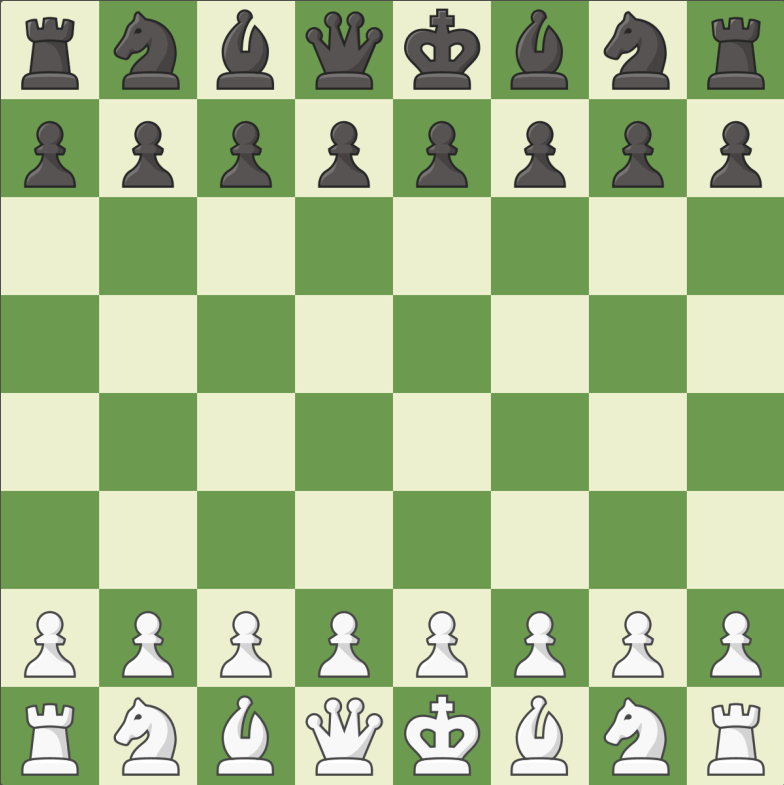white_pawn: (220, 611, 272, 677), (711, 611, 763, 676), (515, 611, 565, 676), (124, 610, 172, 677), (320, 611, 369, 676), (417, 611, 466, 676), (24, 611, 72, 676), (612, 611, 660, 676)
